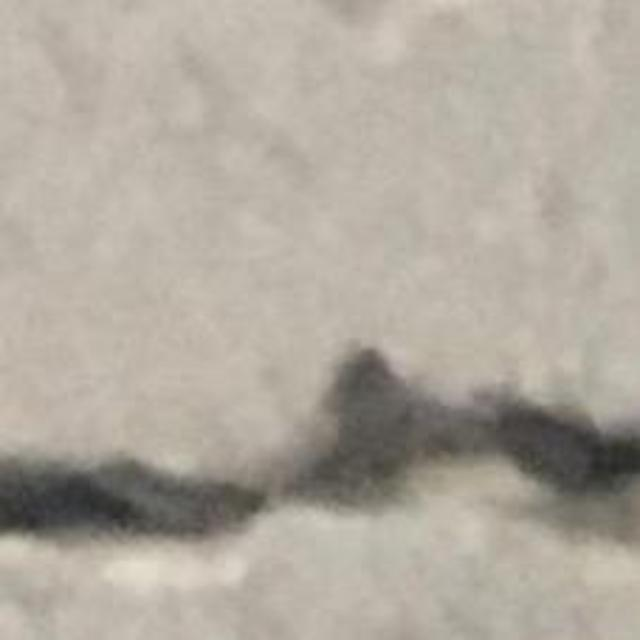crack: (0, 350, 639, 541)
